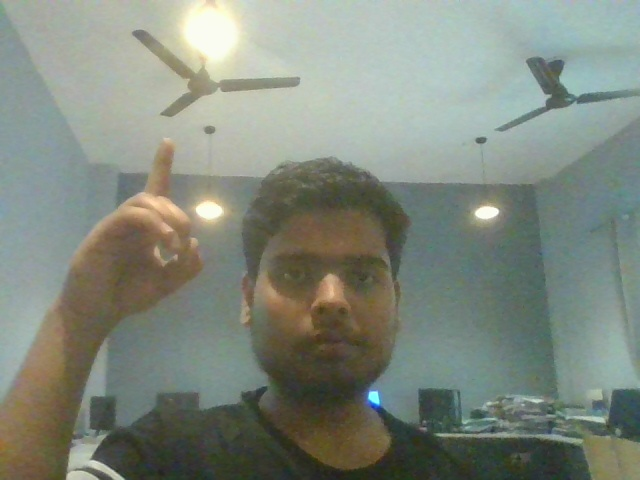D: (49, 116, 219, 351)
